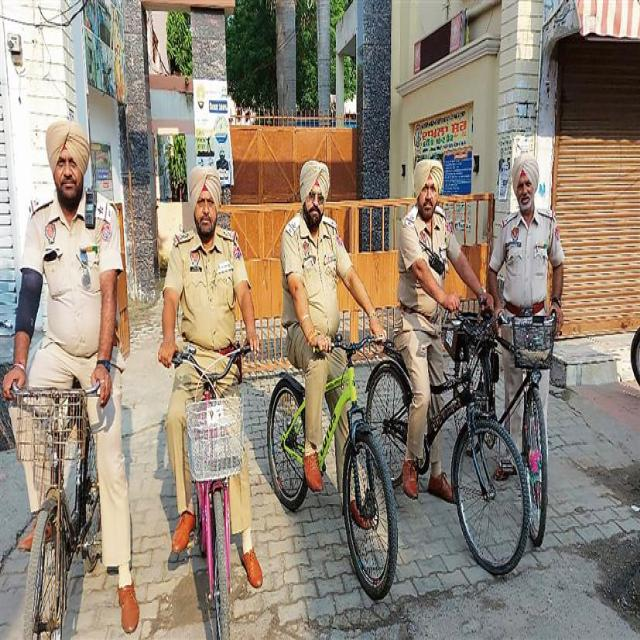bicycle: (2, 120, 139, 639), (368, 160, 530, 575), (268, 162, 396, 598), (159, 169, 262, 639), (488, 153, 565, 546)
